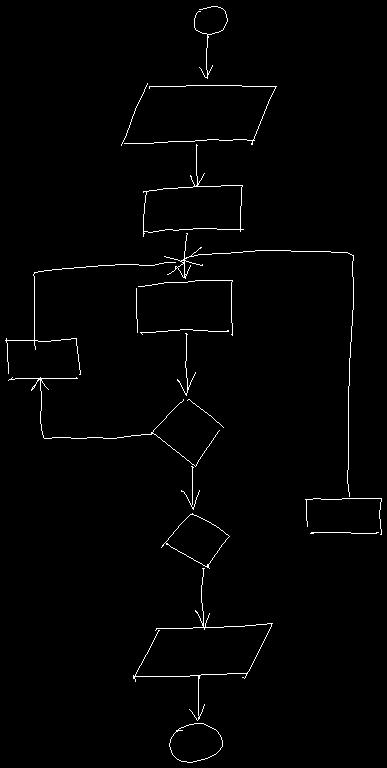arrow: (181, 247, 353, 496), (33, 256, 183, 349), (31, 377, 151, 438), (177, 333, 195, 395), (195, 568, 209, 629), (181, 466, 199, 509), (175, 233, 190, 278), (189, 676, 204, 720), (190, 144, 204, 186), (199, 35, 212, 78)
connection: (169, 723, 222, 762), (194, 6, 227, 34)
data: (121, 83, 276, 145), (133, 623, 272, 681)
decision: (150, 399, 223, 466), (161, 513, 229, 568)
process: (136, 280, 232, 335), (143, 185, 243, 236), (5, 338, 80, 380), (305, 498, 381, 534)
